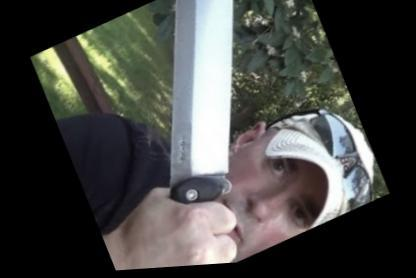knife: (56, 0, 345, 272)
